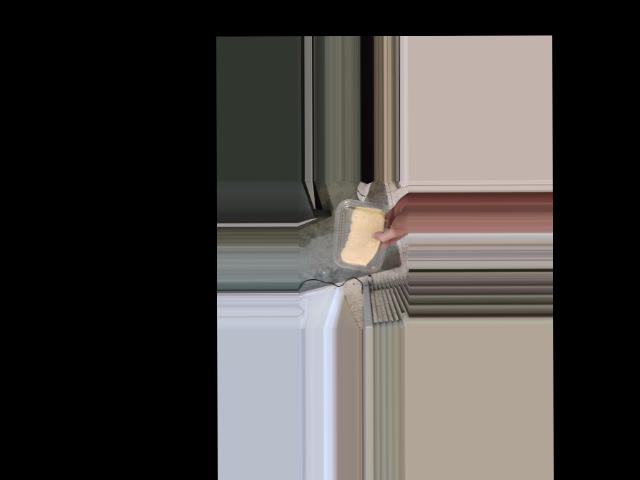cheese: (338, 200, 389, 271)
